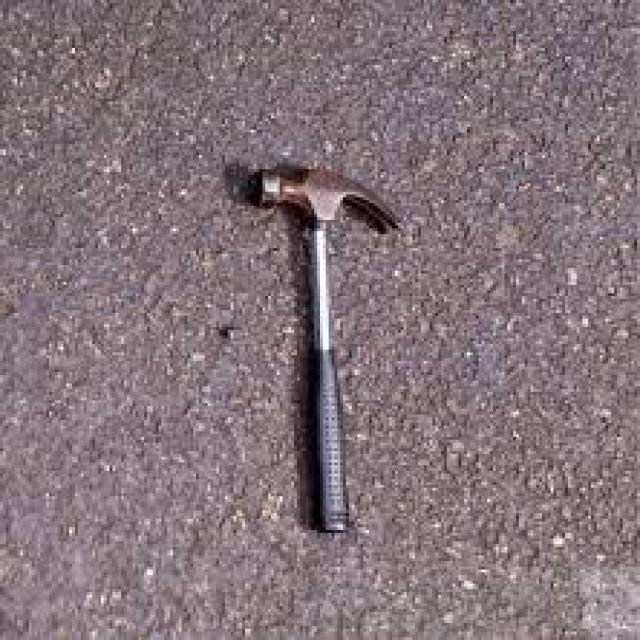hammer: (241, 143, 408, 552)
